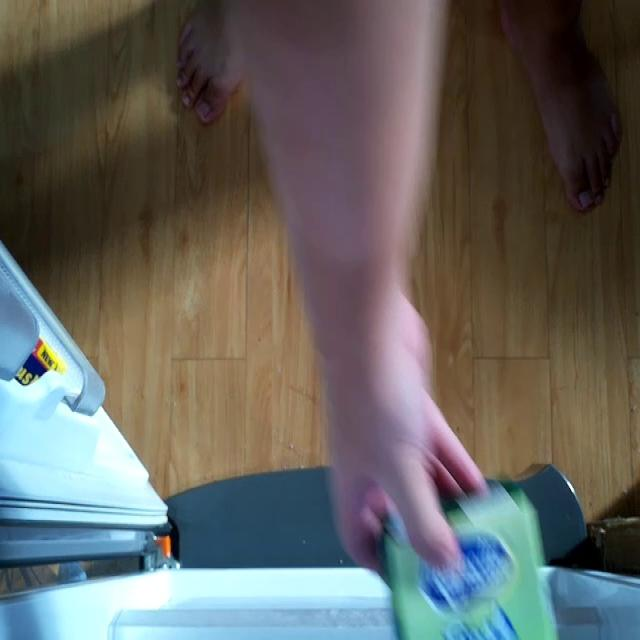milk: (368, 468, 600, 640)
